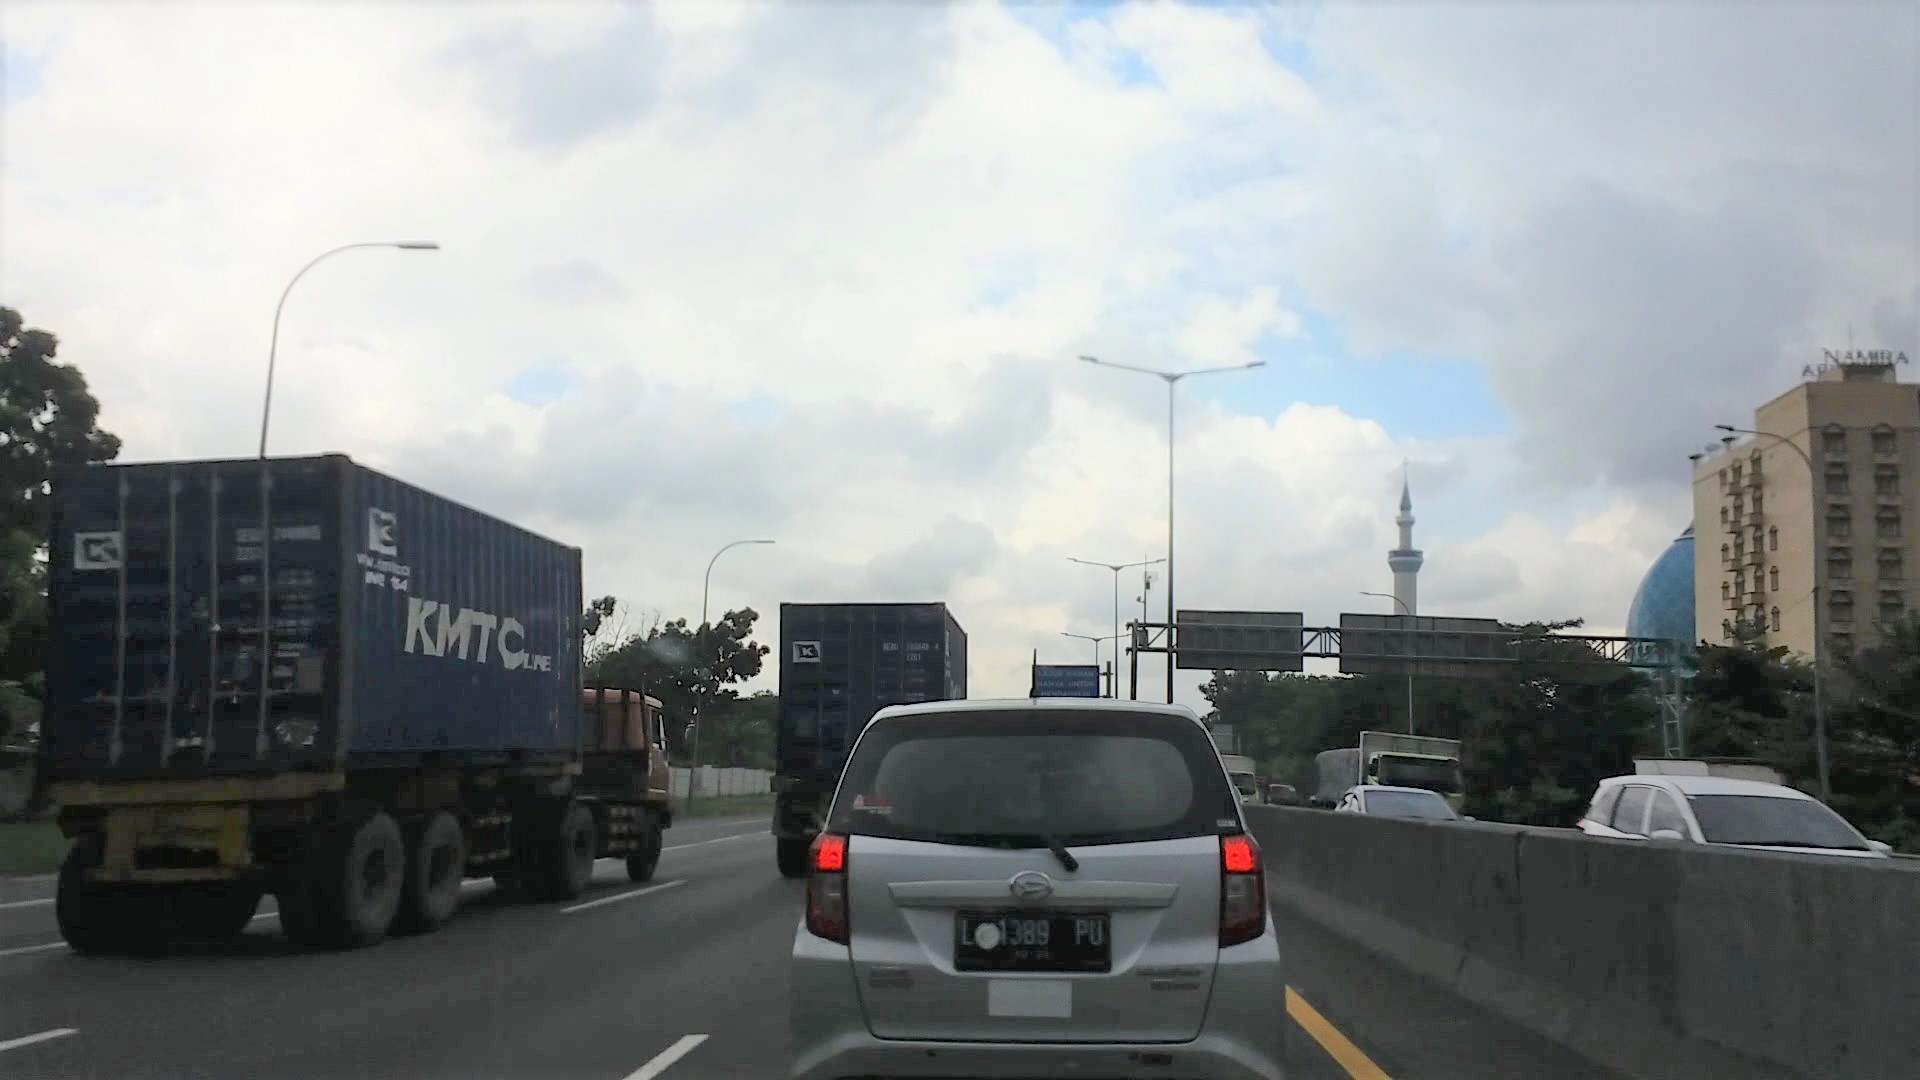plate_positive: (953, 909, 1112, 973)
